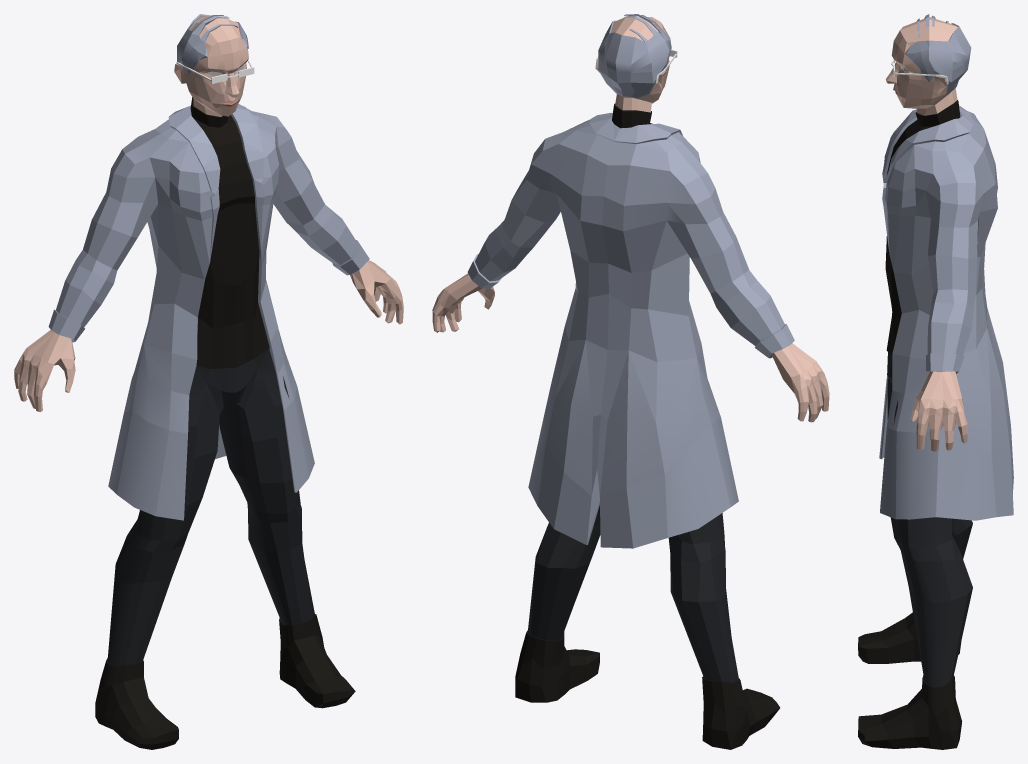
File: profMan_noHair.fbx
The picture shows the model from 3 angles, left to right: view 1: azimuth 30°, elevation 25°; view 2: azimuth 150°, elevation 25°; view 3: azimuth 270°, elevation 25°; orthographic projection. The views are drawn at different scales.
Parts seen in each view (by area): view 1: ManNoHair; view 2: ManNoHair; view 3: ManNoHair.
Boxes of the visible parts, x1,y1,x2,y2 form: ManNoHair: [14, 14, 403, 749]; ManNoHair: [432, 14, 829, 749]; ManNoHair: [858, 14, 1013, 749].
Bounding box in the file's own units: 1.13 × 1.98 × 0.4117.
Materials: 1 (1 with a texture image).
